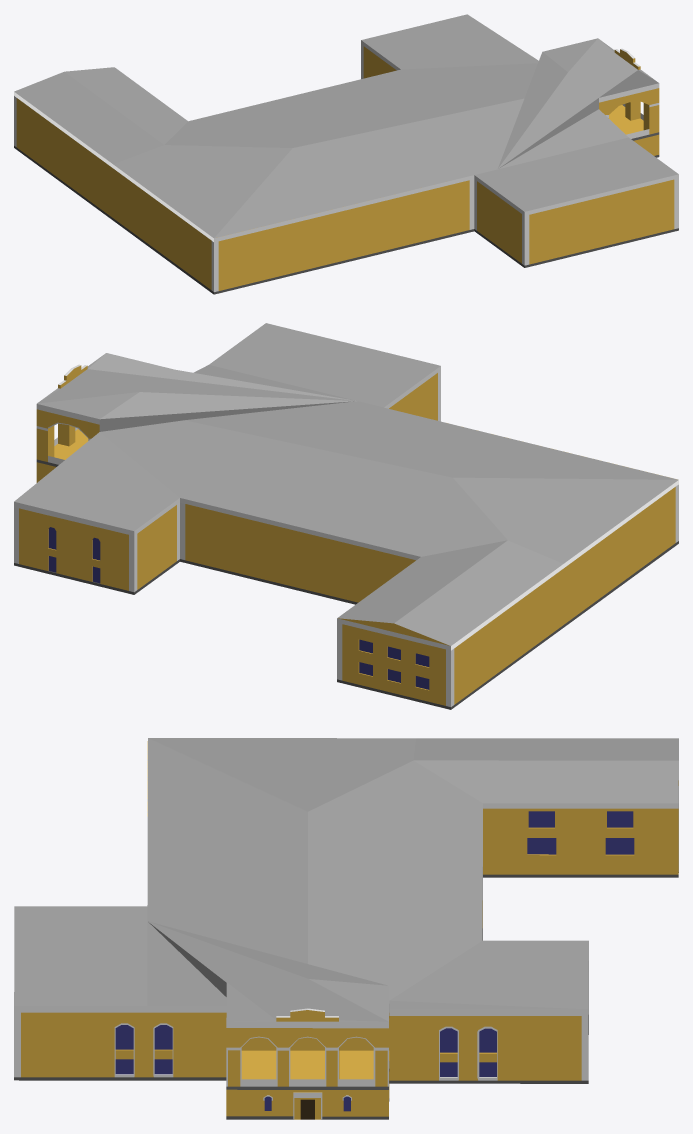
Rendered from Дом культуры.glb.
3 views of the same model, one above another, from view 1: azimuth 30°, elevation 25°; view 2: azimuth 150°, elevation 25°; view 3: azimuth 270°, elevation 25° (orthographic). The views are drawn at different scales.
Visible parts, largest first — view 1: Городской дом культуры; view 2: Городской дом культуры; view 3: Городской дом культуры.
Part boxes in pixels (box(x1,y1,x2,y2)): Городской дом культуры: box(14, 14, 678, 294); Городской дом культуры: box(14, 323, 678, 709); Городской дом культуры: box(14, 738, 678, 1119).
Bounding box in the file's own units: 61.91 × 10.3 × 56.6.
